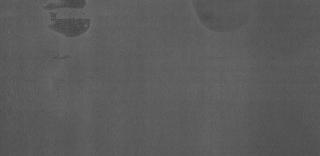oil spot: (190, 0, 256, 34), (42, 1, 92, 40)
